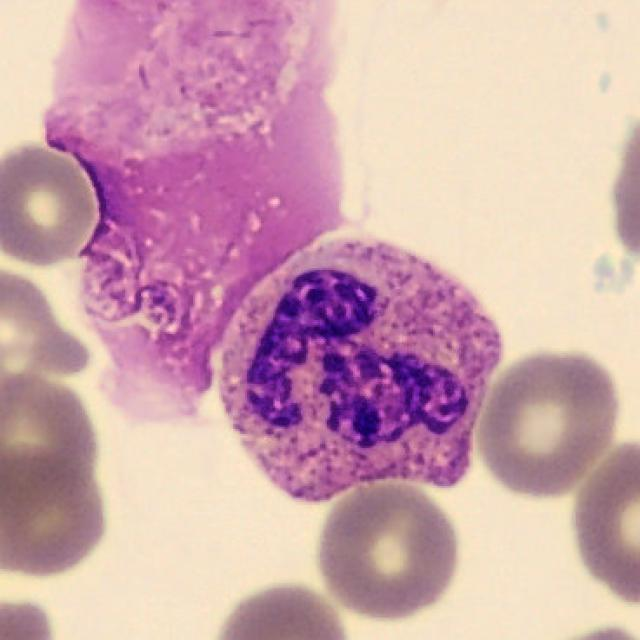Neutrofilo segmentado: (210, 230, 503, 505)
